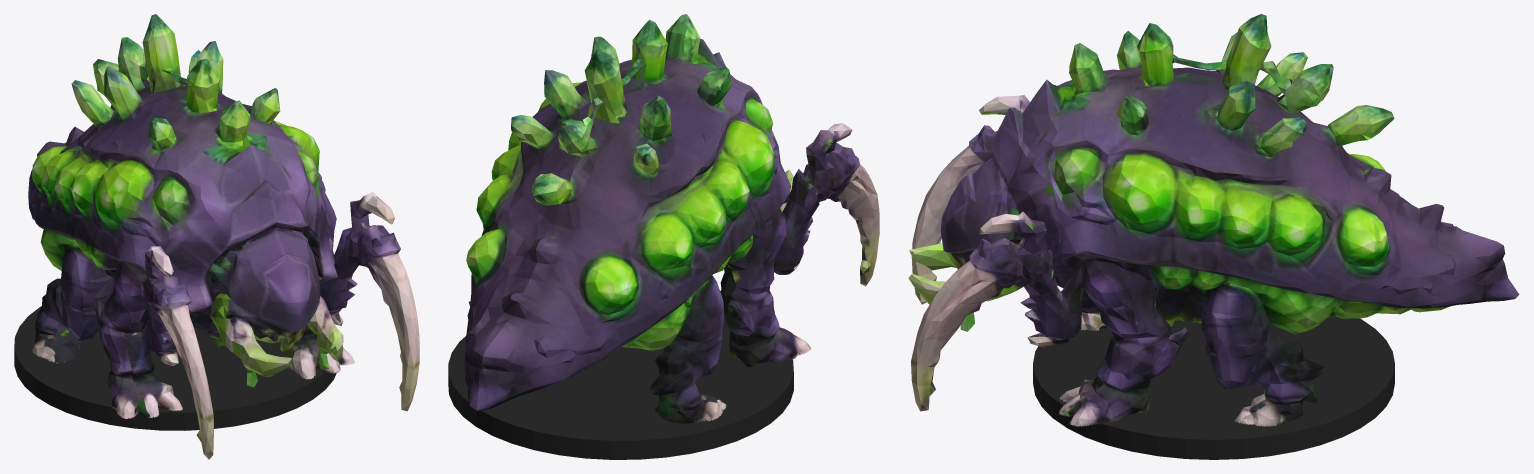
The model's file is vile.glb.
The picture shows the model from 3 angles, left to right: view 1: azimuth 30°, elevation 25°; view 2: azimuth 150°, elevation 25°; view 3: azimuth 270°, elevation 25°; orthographic projection. The views are drawn at different scales.
Visible parts, largest first — view 1: figure, base; view 2: figure, base; view 3: figure, base.
Boxes of the visible parts, box(x1,y1,x2,y2) form: figure: box(28, 14, 419, 459); base: box(14, 306, 336, 430); figure: box(463, 14, 879, 423); base: box(448, 319, 793, 459); figure: box(908, 14, 1519, 426); base: box(1033, 316, 1394, 459).
Bounding box in the file's own units: 1.97 × 2.22 × 3.32.
2 materials, 1 textured.
